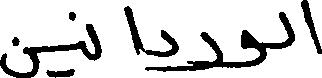X: (180, 27, 222, 75), (224, 25, 266, 72), (0, 32, 37, 77), (301, 0, 321, 58), (125, 1, 143, 59), (162, 25, 178, 76), (87, 19, 101, 65), (279, 7, 293, 53), (79, 36, 85, 60)
